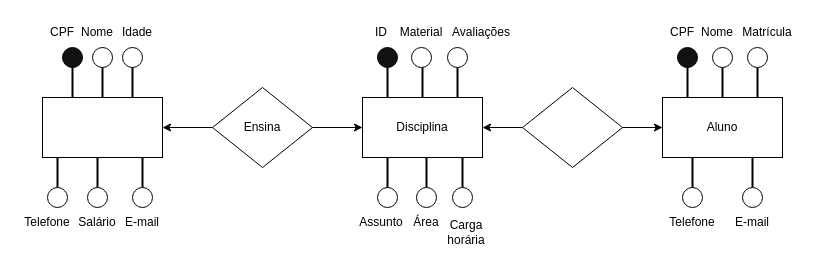
Some shapes in this 814 by 264 pixel diagram are drawn without their labels. The shapes that lost their labels are listed below. From the top down, each one's box as (x1, y1, x2, y2) in pixels, then its label:
(42, 96, 162, 158): Professor
(522, 86, 622, 168): Estuda
